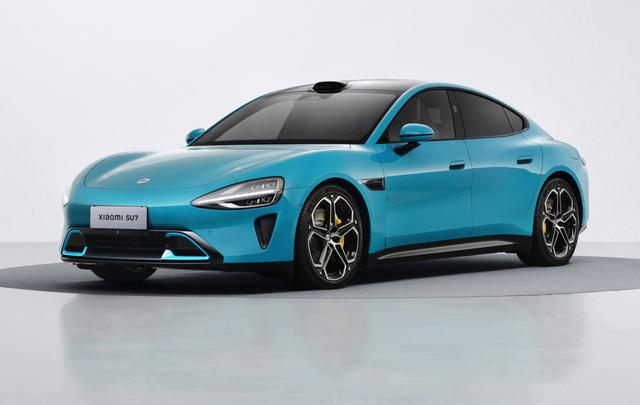su7: (62, 73, 593, 283)
